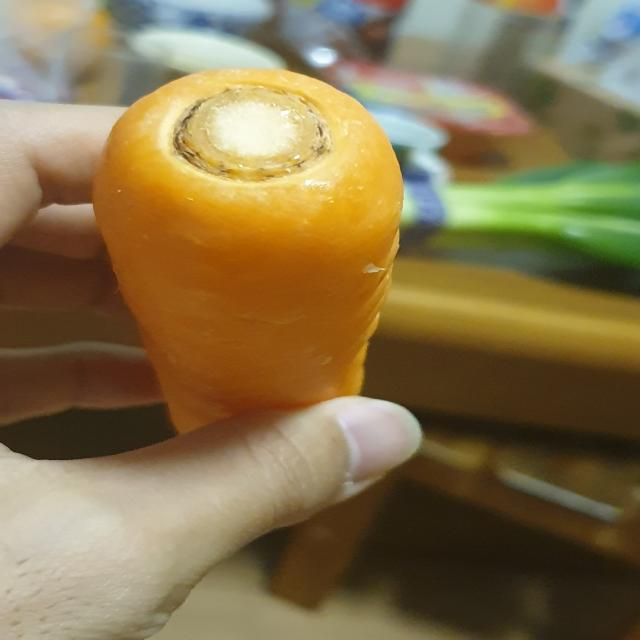Carrot: (77, 54, 422, 462)
